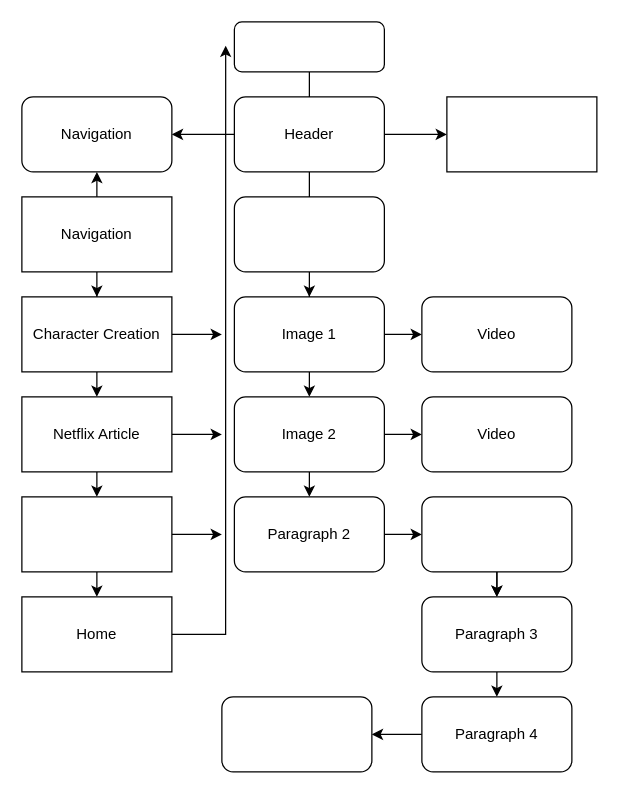
Image size: 619x794. Some labels were removed from this diagram. The shapes that lost their labels are listed below. From the top down, each one's centre as x and y in pixels, then its label:
At pixel 308 46: "Webpage.tyty.com".
At pixel 521 134: "Audio".
At pixel 308 234: "Paragraph1".
At pixel 96 534: "Celebrities".
At pixel 496 534: "Table".
At pixel 296 734: "Footer".
